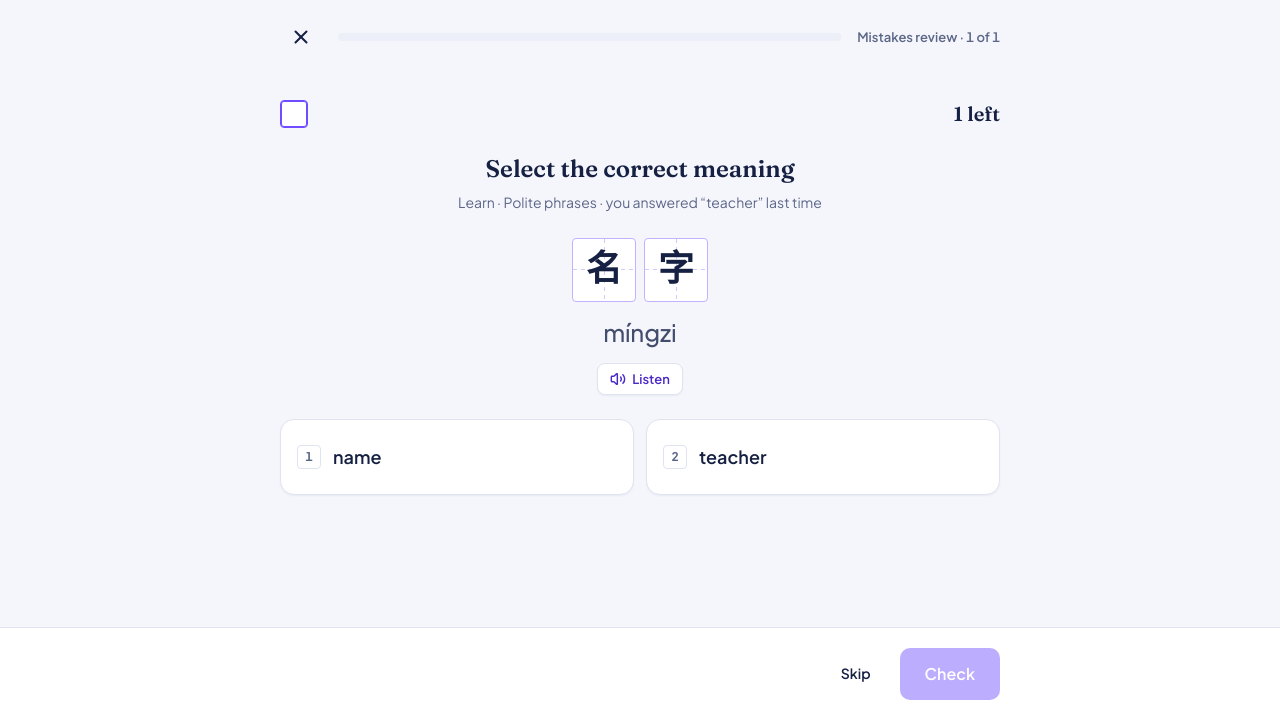
it: StudentMistakesReviewPage (focus mode review) › asks each waiting mistake again with where it came from and clears it when answered right
expect the text "1 left" is shown: met, box x1=954 y1=98 x2=1000 y2=129
Click the button with test id "option-0" at {"x": 357, "y": 457}, box x1=280 y1=419 x2=634 y2=495
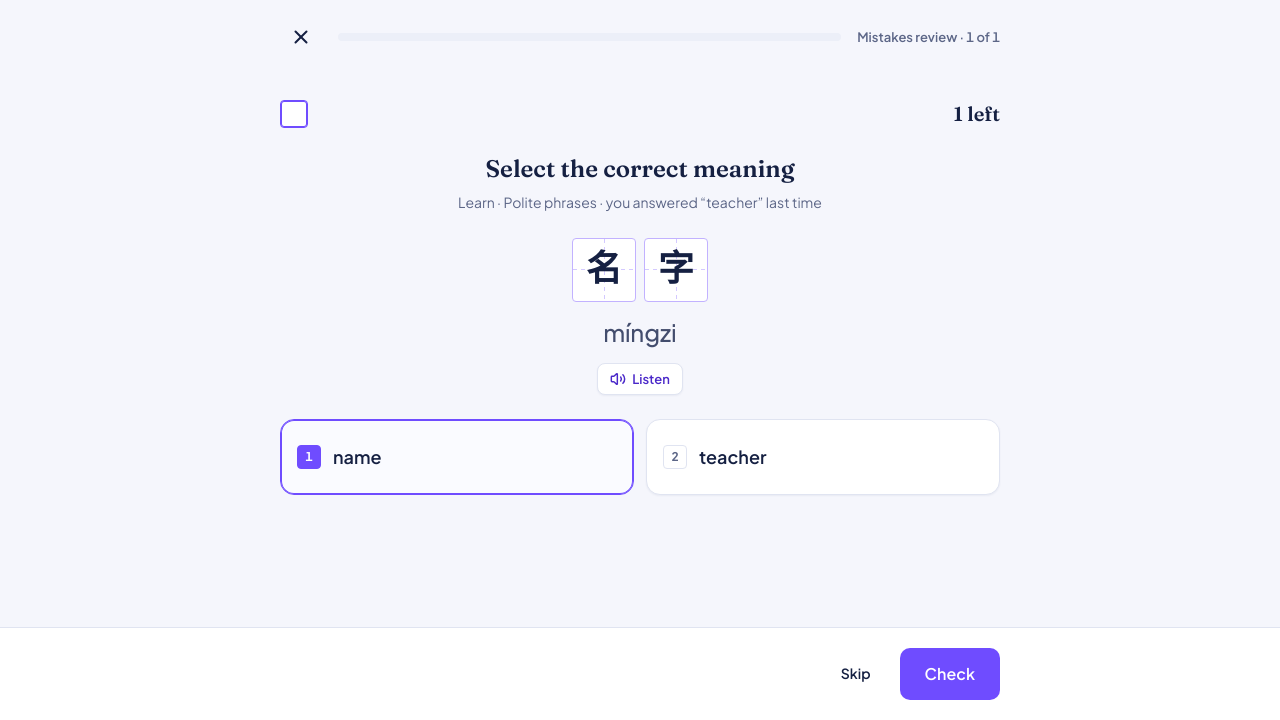
Click the button with test id "check" at {"x": 950, "y": 674}, box x1=900 y1=648 x2=1000 y2=700
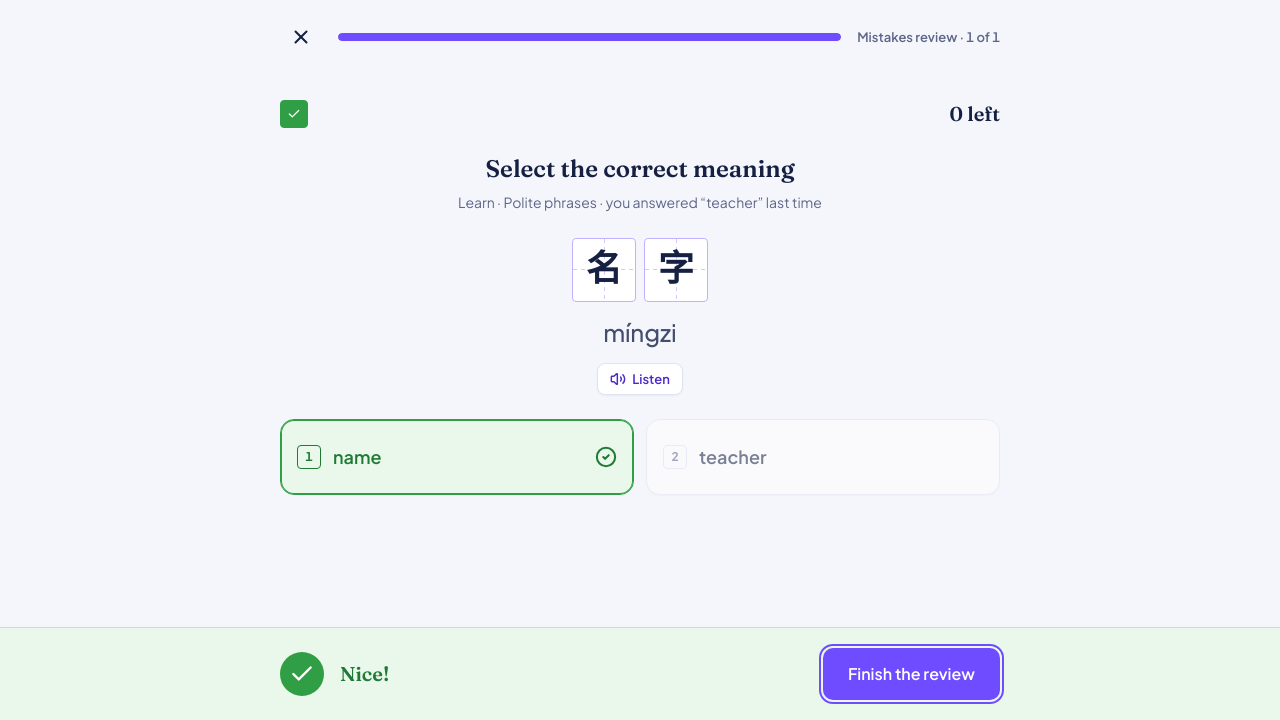
expect the text "0 left" is shown: met, box x1=949 y1=98 x2=1000 y2=129
Click the button with test id "continue" at {"x": 912, "y": 674}, box x1=823 y1=648 x2=1000 y2=700
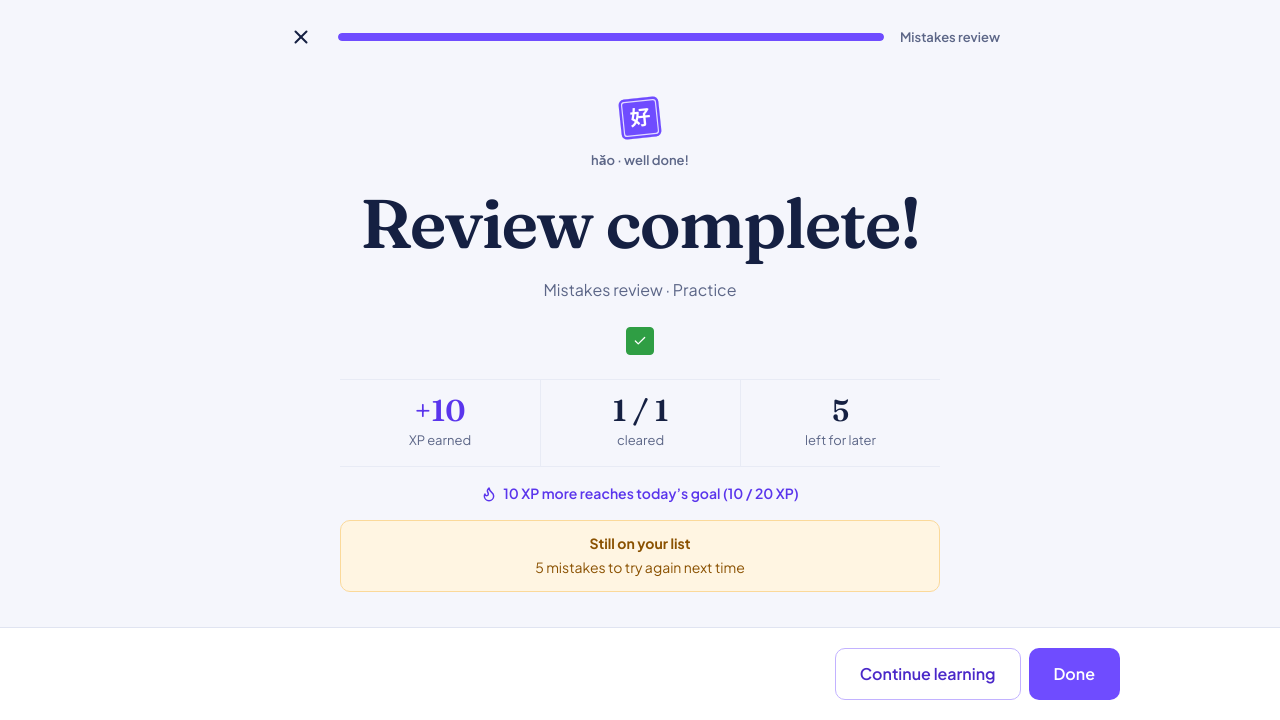
expect the element with test id "review-complete" shows "Review complete!": met, box x1=360 y1=181 x2=920 y2=266
expect the element with test id "review-complete" shows "1 / 1": met, box x1=612 y1=392 x2=669 y2=429
expect the element with test id "review-complete" shows "5 mistakes to try again next time": met, box x1=535 y1=558 x2=745 y2=576
